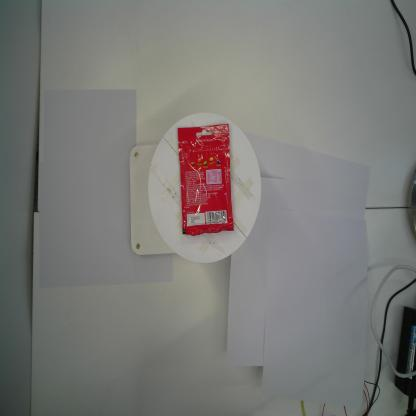Candy: (176, 120, 236, 236)
